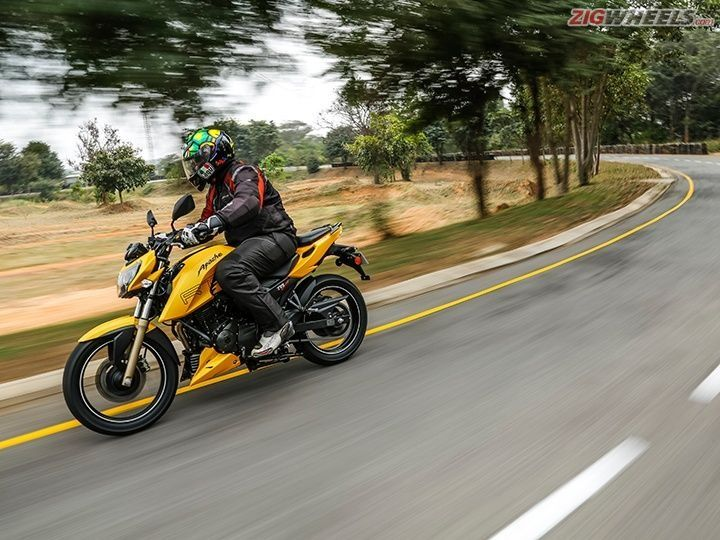helmet: (178, 125, 234, 185)
